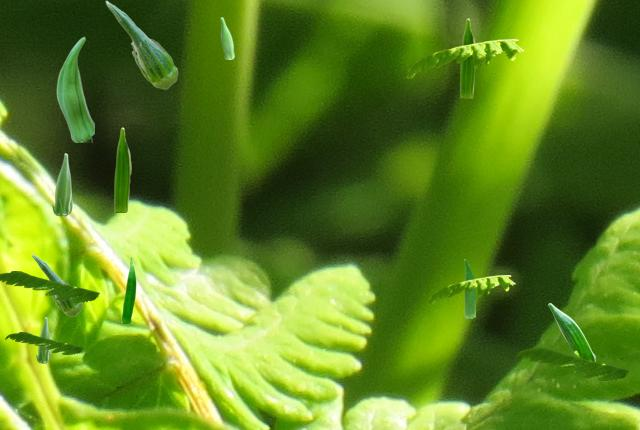okra: (105, 0, 177, 88), (56, 36, 93, 141), (31, 253, 81, 315), (548, 303, 594, 360), (114, 127, 130, 211), (460, 18, 475, 97), (52, 153, 71, 215), (121, 256, 135, 322), (36, 317, 49, 362), (464, 259, 474, 317), (220, 17, 233, 58)
